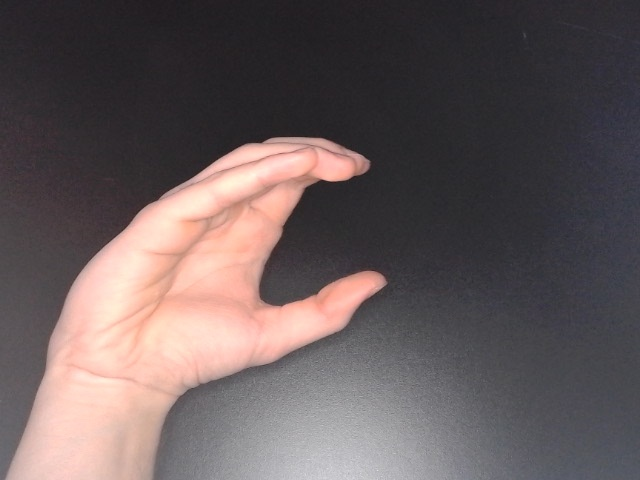c: (37, 131, 395, 409)
